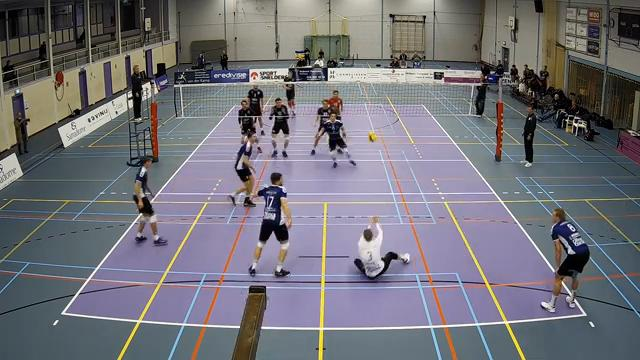ricezione: (347, 214, 414, 282)
